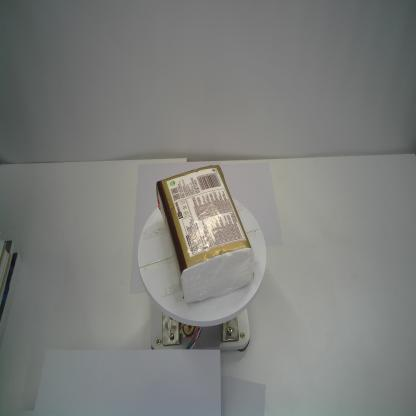Tissue: (156, 164, 254, 303)
